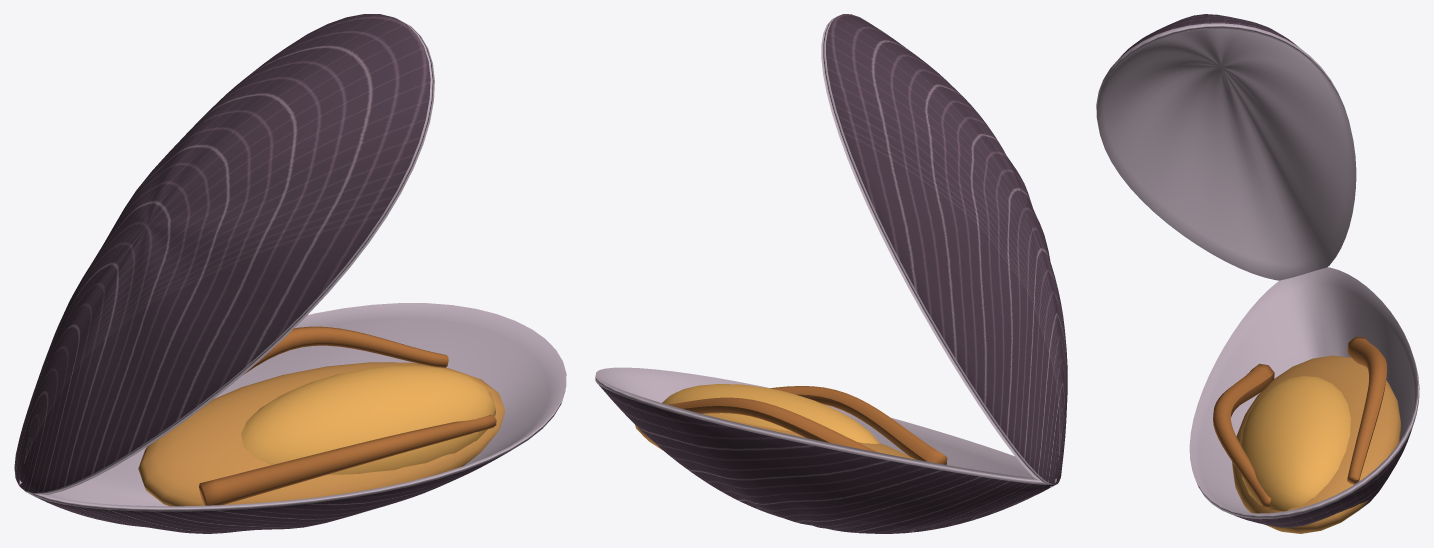
Rendered from props_p3_items__p3_mussel.glb.
The picture shows the model from 3 angles, left to right: view 1: azimuth 30°, elevation 25°; view 2: azimuth 150°, elevation 25°; view 3: azimuth 270°, elevation 25°; orthographic projection. The views are drawn at different scales.
Visible parts, largest first — view 1: upper_valve, lower_valve, mussel_body, mussel_mantle, reference_static_surfaces; view 2: upper_valve, lower_valve, reference_static_surfaces, mussel_body, mussel_mantle; view 3: upper_valve, lower_valve, mussel_body, mussel_mantle, reference_static_surfaces.
Part boxes in pixels (x1,y1,x2,y2): upper_valve: (14, 14, 434, 494); lower_valve: (19, 303, 566, 533); mussel_body: (241, 365, 495, 474); mussel_mantle: (138, 362, 505, 506); reference_static_surfaces: (199, 326, 496, 505); upper_valve: (821, 14, 1067, 487); lower_valve: (595, 367, 1057, 533); reference_static_surfaces: (668, 386, 947, 464); mussel_body: (662, 384, 879, 443); mussel_mantle: (635, 419, 915, 459); upper_valve: (1096, 14, 1356, 280); lower_valve: (1189, 267, 1419, 527); mussel_body: (1240, 376, 1350, 511); mussel_mantle: (1232, 355, 1400, 533); reference_static_surfaces: (1213, 337, 1386, 508).
Bounding box in the file's own units: 0.0941 × 0.0898 × 0.0538.
Materials: 7 (2 with a texture image).
